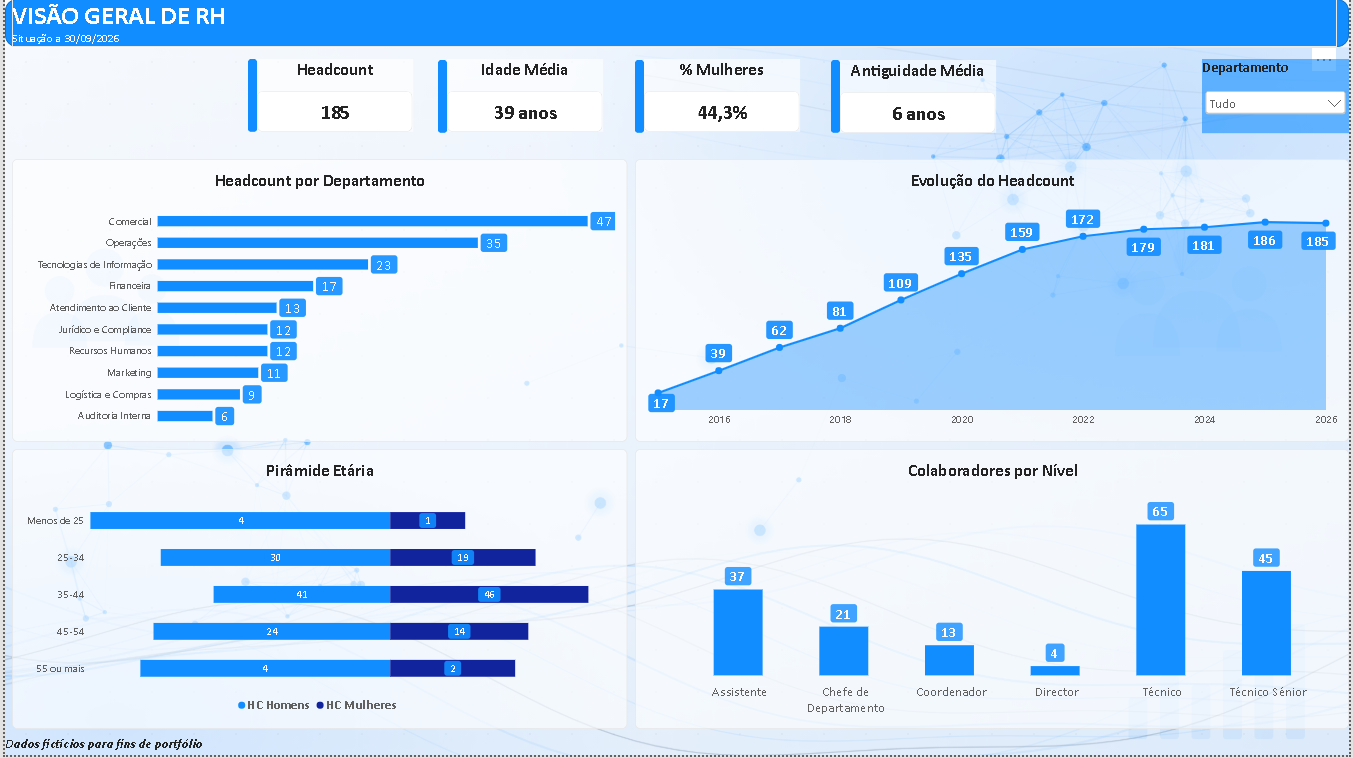

What the dashboard file says about the page in this screenshot:
{"tool":"powerbi","page":{"name":"Over_view","canvas":[1920,1080],"ordinal":0},"visuals":[{"type":"image","box":[0,0,1919.6,1080],"z":0},{"type":"shape","box":[0,0,1920,68.6],"z":1000},{"type":"textbox","box":[9.4,0,1894,68.5],"z":2000},{"type":"cardVisual","title":"Headcount","fields":{"Data":["Medidas.Headcount"]},"box":[360,85.7,222.9,104.3],"z":3000},{"type":"cardVisual","title":"Idade Média","fields":{"Data":["Medidas.Idade Media Activos"]},"box":[631.4,85.7,222.9,104.3],"z":5000},{"type":"cardVisual","title":"% Mulheres","fields":{"Data":["Medidas.% Mulheres"]},"box":[912.9,85.7,222.9,104.3],"z":7000},{"type":"cardVisual","title":"Antiguidade Média","fields":{"Data":["Medidas.Antiguidade Media"]},"box":[1192.9,87.1,222.9,104.3],"z":9000},{"type":"slicer","title":"Departamento","fields":{"Values":["Departamentos.Departamento"]},"box":[1710,85.7,210,105.7],"z":11000},{"type":"hundredPercentStackedBarChart","title":"Pirâmide Etária","fields":{"Category":["Colaboradores.Faixa_Etaria"],"Y":["Medidas.HC Homens","Medidas.HC Mulheres"]},"box":[10,642.9,878.6,400],"z":12000},{"type":"lineChart","title":"Evolução do Headcount","fields":{"Y":["Medidas.Headcount"],"Category":["Calendario.Ano"]},"box":[900,228.6,1020,404.3],"z":13000},{"type":"clusteredBarChart","title":"Headcount por Departamento","fields":{"Category":["Departamentos.Departamento"],"Y":["Medidas.Headcount"]},"box":[10,228.6,878.6,404.3],"z":14000},{"type":"clusteredColumnChart","title":"Colaboradores por Nível","fields":{"Category":["Colaboradores.Nivel"],"Y":["Medidas.Headcount"]},"box":[900,642.9,1020,400],"z":15000},{"type":"textbox","box":[0,1051.4,1920,28.6],"z":16000},{"type":"shape","box":[347.1,85.7,12.9,104.3],"z":16001},{"type":"shape","box":[618.6,87.1,12.9,104.3],"z":16002},{"type":"shape","box":[900,87.1,12.9,104.3],"z":16003},{"type":"shape","box":[1180,87.1,12.9,104.3],"z":16004}]}

Visuals, with their boxes in screenshot pixels (x1, y1, x2, y2), scaled from the page's 1920x1080 canvas onto the 1353x758 screenshot:
image: select_region(0, 0, 1352, 757)
shape: select_region(0, 0, 1352, 48)
textbox: select_region(7, 0, 1341, 48)
"Headcount" cardVisual: select_region(254, 60, 411, 133)
"Idade Média" cardVisual: select_region(445, 60, 602, 133)
"% Mulheres" cardVisual: select_region(643, 60, 800, 133)
"Antiguidade Média" cardVisual: select_region(841, 61, 998, 134)
"Departamento" slicer: select_region(1205, 60, 1352, 134)
"Pirâmide Etária" hundredPercentStackedBarChart: select_region(7, 451, 626, 732)
"Evolução do Headcount" lineChart: select_region(634, 160, 1352, 444)
"Headcount por Departamento" clusteredBarChart: select_region(7, 160, 626, 444)
"Colaboradores por Nível" clusteredColumnChart: select_region(634, 451, 1352, 732)
textbox: select_region(0, 738, 1352, 757)
shape: select_region(245, 60, 254, 133)
shape: select_region(436, 61, 445, 134)
shape: select_region(634, 61, 643, 134)
shape: select_region(832, 61, 841, 134)
